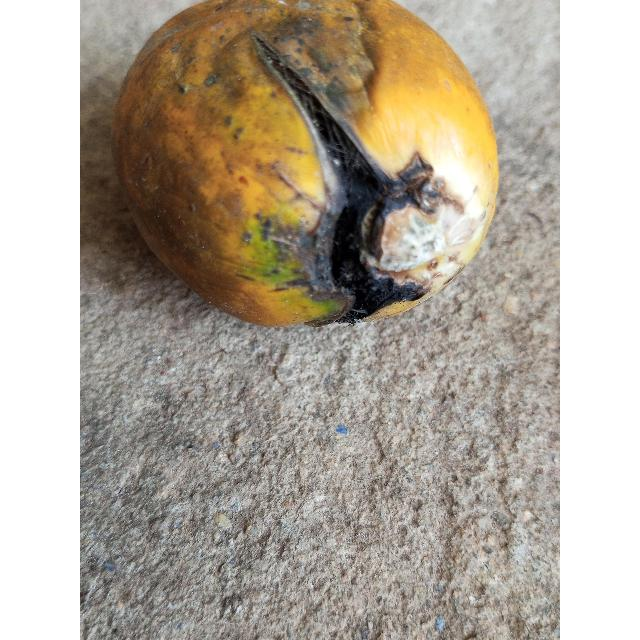damaged: (112, 0, 500, 329)
